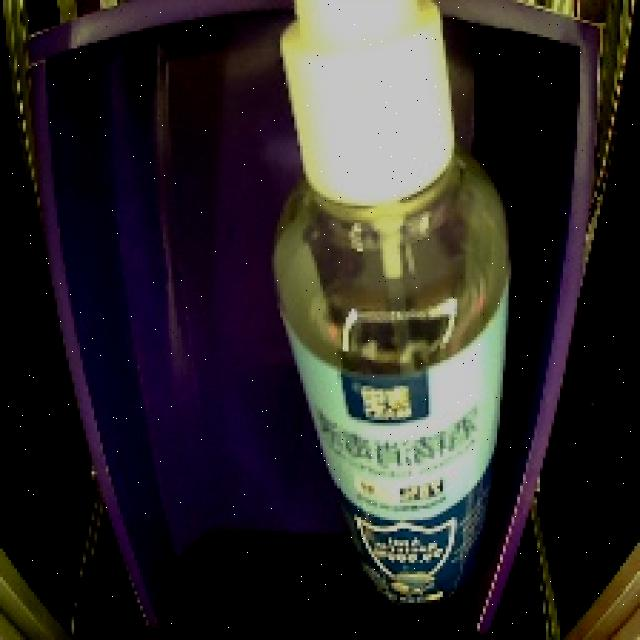plastic: (256, 0, 543, 621)
